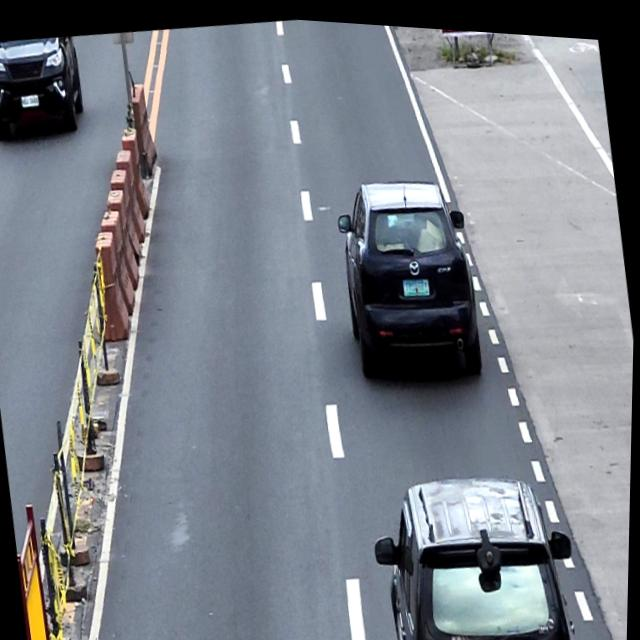Car: (366, 451, 588, 640), (331, 161, 489, 384), (0, 31, 89, 147)
License-Plate: (401, 268, 433, 295), (21, 93, 40, 109)
